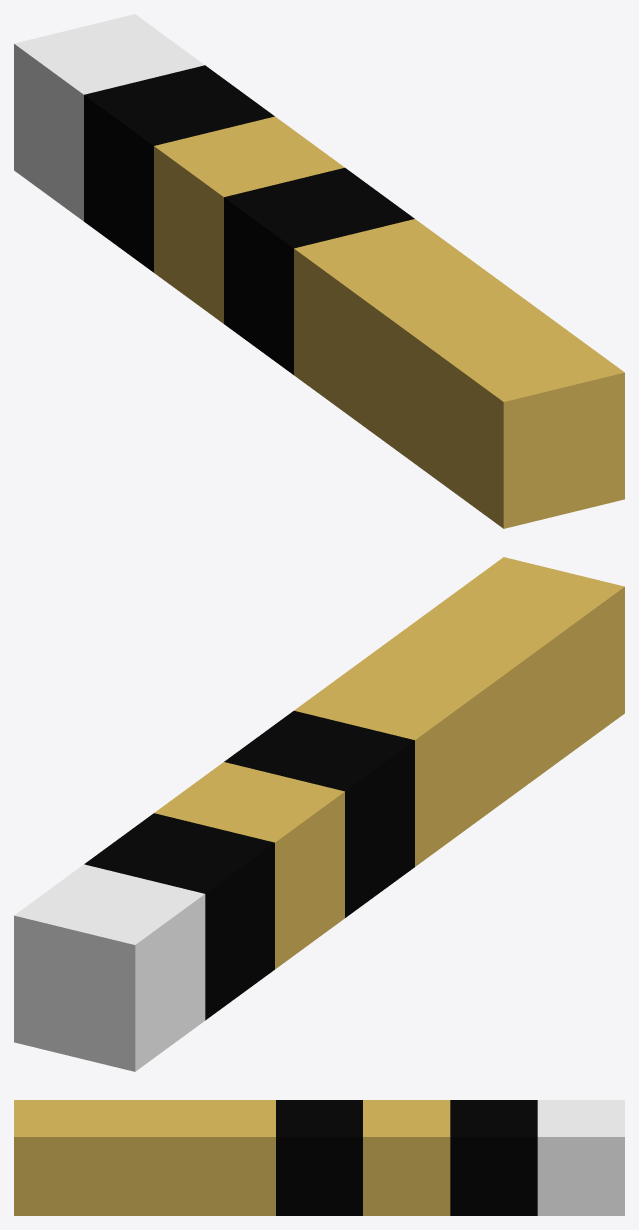
File: Player_Cheetah_Tail.obj
The picture shows the model from 3 angles, top to bottom: view 1: azimuth 30°, elevation 25°; view 2: azimuth 150°, elevation 25°; view 3: azimuth 270°, elevation 25°; orthographic projection. The views are drawn at different scales.
Size of the model in its own units: 0.1 by 0.1 by 0.7.
Materials: 1 (1 with a texture image).
